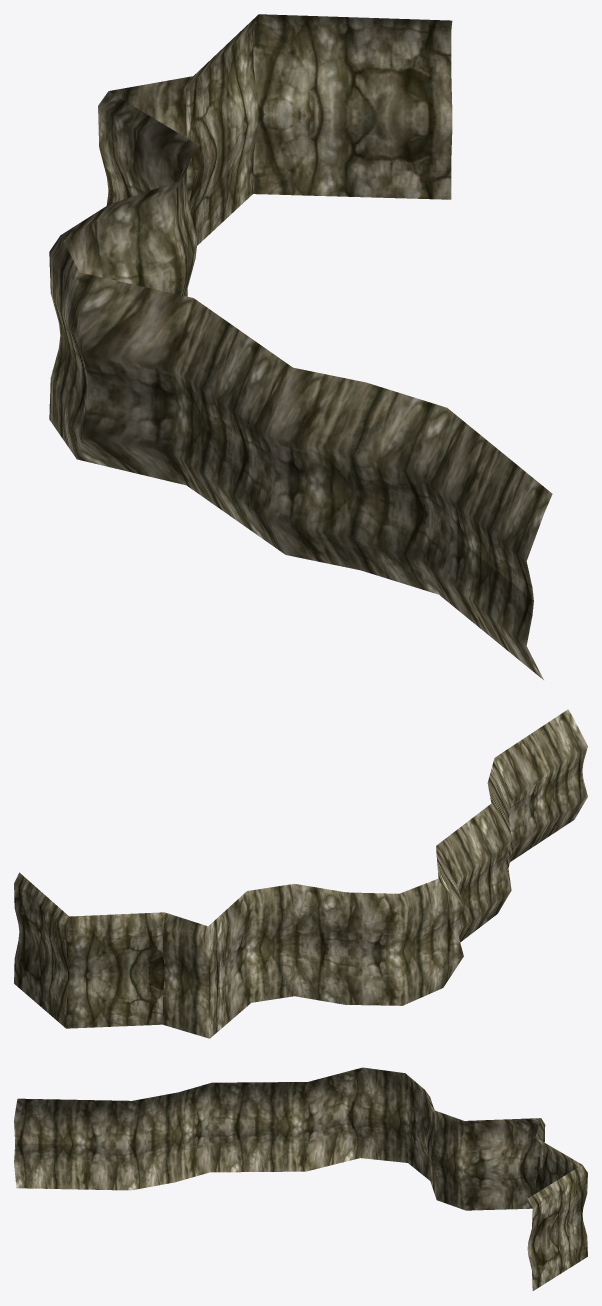
File: CB_NEWPLAYSURFACE_CB_PLAYSURFACE45.fbx
The picture shows the model from 3 angles, top to bottom: view 1: azimuth 30°, elevation 25°; view 2: azimuth 150°, elevation 25°; view 3: azimuth 270°, elevation 25°; orthographic projection. The views are drawn at different scales.
Visible parts, largest first — view 1: CB_NEWPLAYSURFACE_CB_PLAYSURFACE45; view 2: CB_NEWPLAYSURFACE_CB_PLAYSURFACE45; view 3: CB_NEWPLAYSURFACE_CB_PLAYSURFACE45.
Boxes of the visible parts, x1,y1,x2,y2 form: CB_NEWPLAYSURFACE_CB_PLAYSURFACE45: (49,14,552,679); CB_NEWPLAYSURFACE_CB_PLAYSURFACE45: (14,709,587,1038); CB_NEWPLAYSURFACE_CB_PLAYSURFACE45: (14,1067,587,1290).
Bounding box in the file's own units: 234802 × 73541 × 416166.
Materials: 1 (1 with a texture image).
